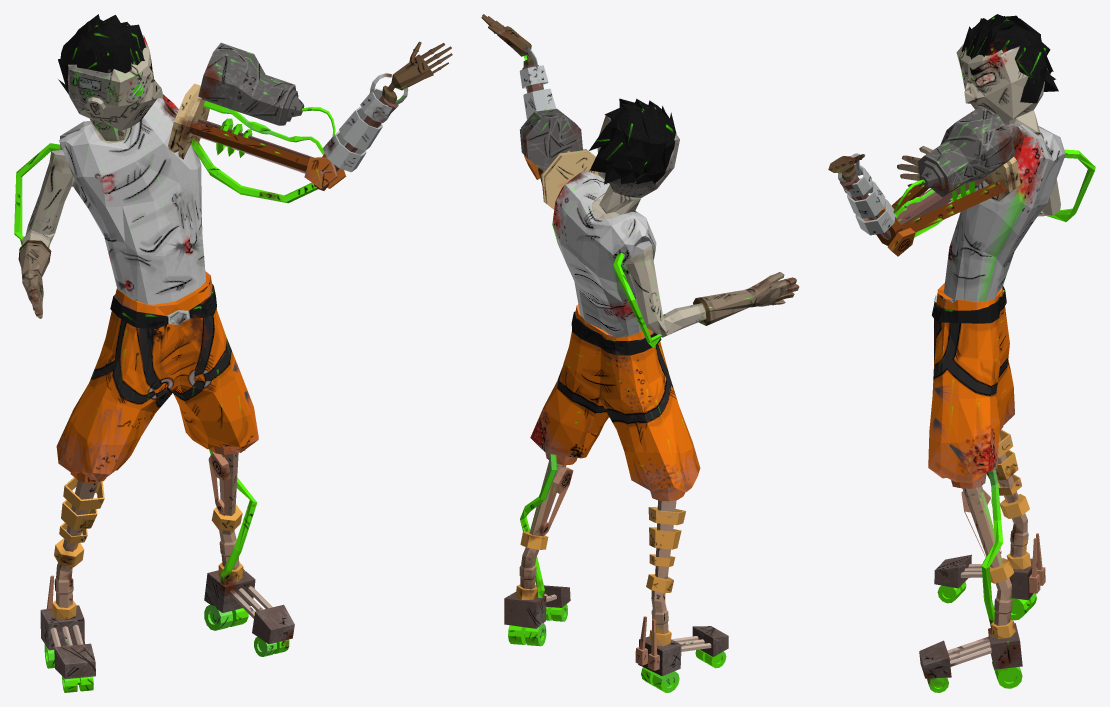
File: CyborgFINALAnimation_000049.obj
3 views of the same model, side by side, from view 1: azimuth 30°, elevation 25°; view 2: azimuth 150°, elevation 25°; view 3: azimuth 270°, elevation 25° (orthographic). The views are drawn at different scales.
Parts seen in each view (by area): view 1: CyborgMesh_Cube.002; view 2: CyborgMesh_Cube.002; view 3: CyborgMesh_Cube.002.
Boxes of the visible parts, x1=… form: CyborgMesh_Cube.002: x1=14, y1=14, x2=452, y2=692; CyborgMesh_Cube.002: x1=481, y1=14, x2=799, y2=692; CyborgMesh_Cube.002: x1=828, y1=14, x2=1095, y2=692.
Size of the model in its own units: 5.99 by 9.54 by 3.77.
